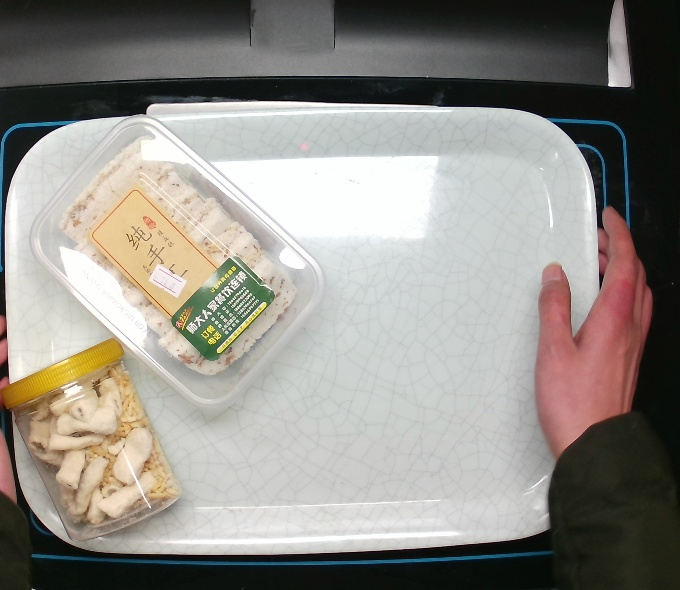wcq-GuiHuaGao: (27, 111, 328, 409)
wcq-MaiYaTang: (1, 336, 188, 547)
